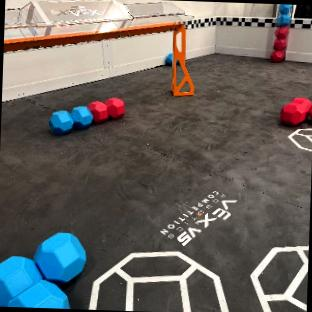Goal: (4, 0, 193, 96)
V5_BLUE: (0, 233, 86, 309), (50, 106, 92, 135), (166, 53, 173, 64)
V5_RED: (88, 97, 125, 123), (281, 97, 312, 125)
